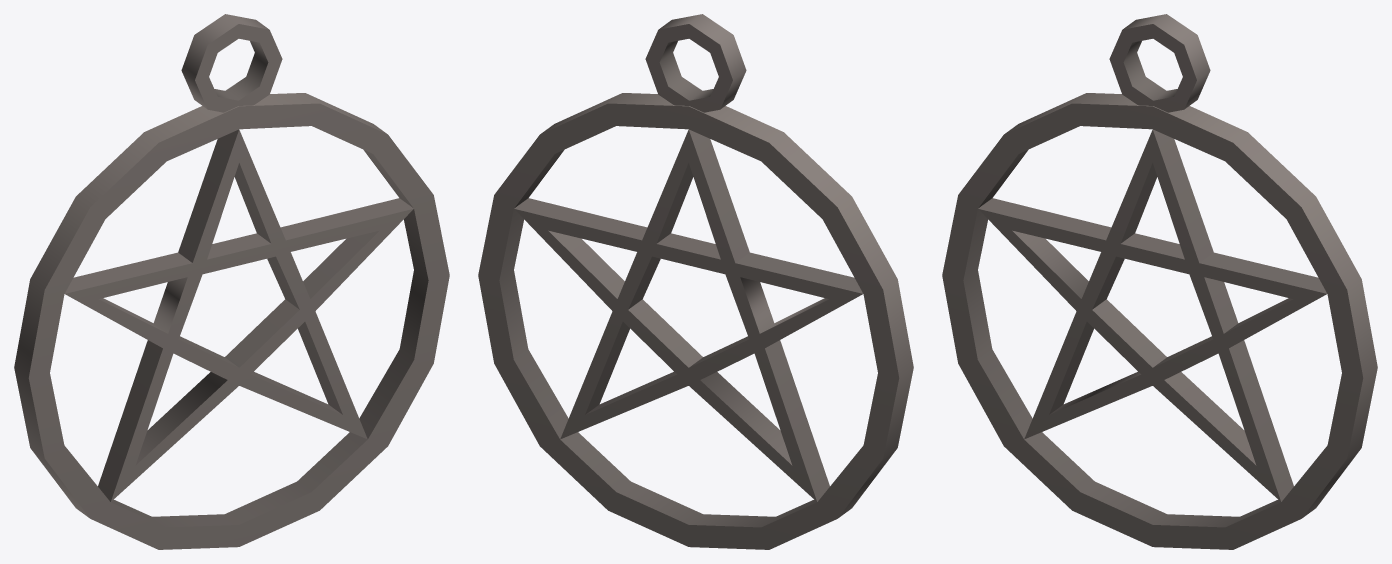
Rendered from PentagramCharm.fbx.
3 views of the same model, side by side, from view 1: azimuth 30°, elevation 25°; view 2: azimuth 150°, elevation 25°; view 3: azimuth 330°, elevation 25° (orthographic).
Parts seen in each view (by area): view 1: PentagramCharm; view 2: PentagramCharm; view 3: PentagramCharm.
Boxes of the visible parts, x1,y1,x2,y2 form: PentagramCharm: [14, 14, 449, 549]; PentagramCharm: [478, 14, 913, 549]; PentagramCharm: [942, 14, 1377, 549].
Size of the model in its own units: 5.41 by 6.42 by 0.324.
